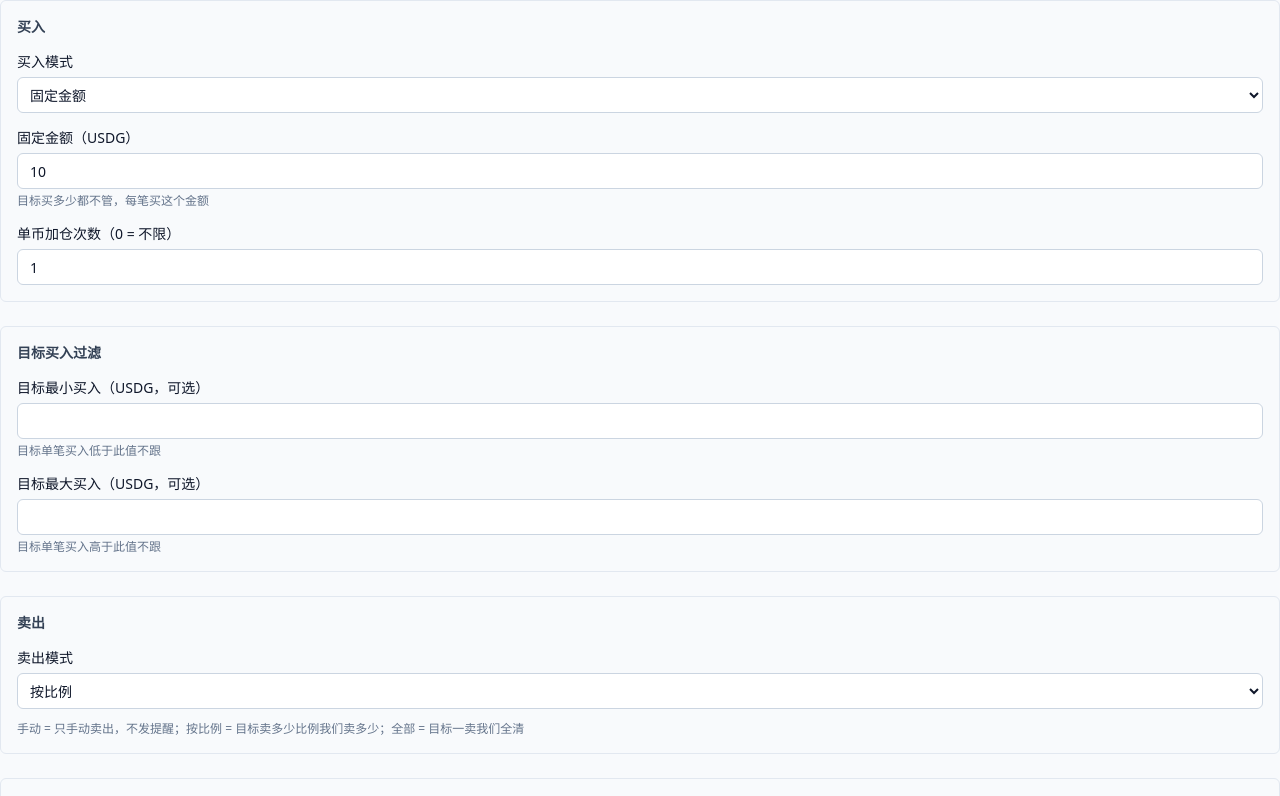
Scenario: numeric inputs carry min attributes and refuse a minus sign while typing
Replace the text in the number field labelled "单币加仓次数（0 = 不限）" with "-3" at [640, 267], box x1=17 y1=249 x2=1263 y2=285
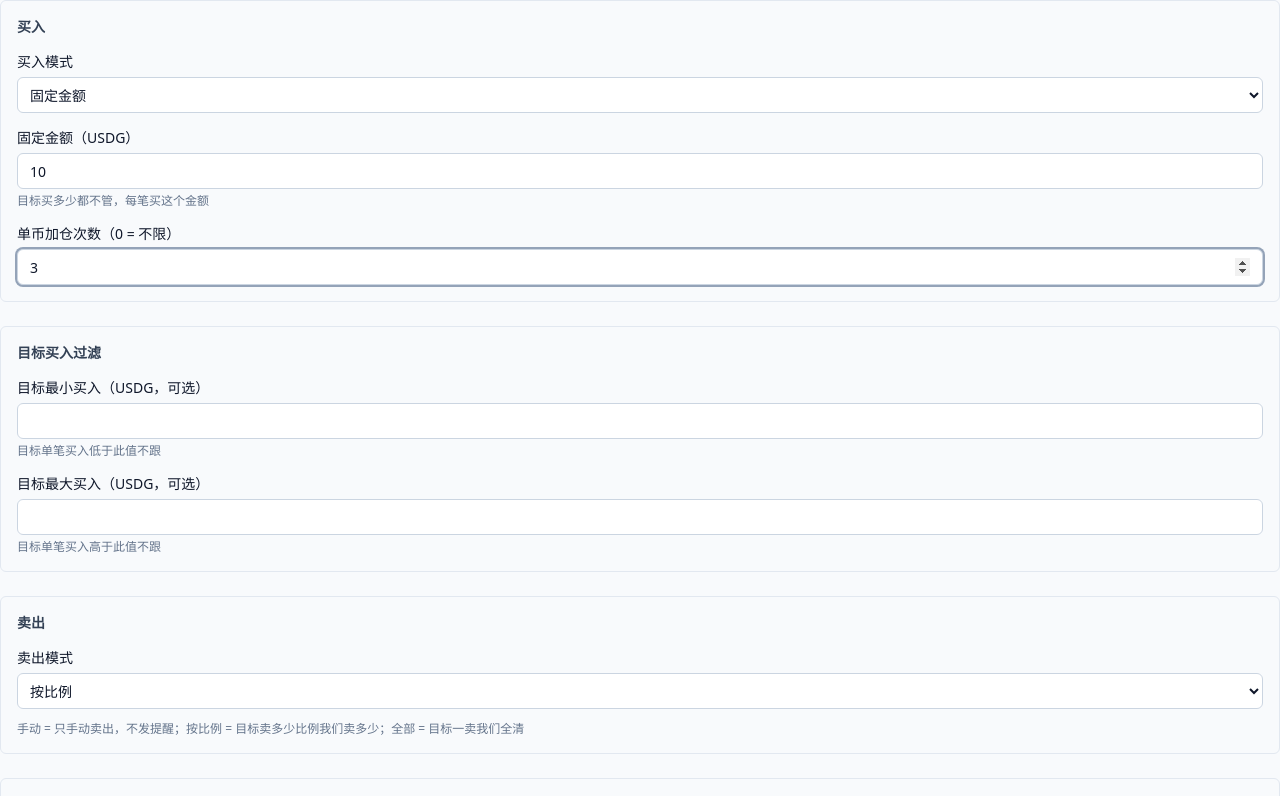
Now the number field labelled "单币加仓次数（0 = 不限）" holds "3", box x1=17 y1=249 x2=1263 y2=285
Replace the text in the field labelled "固定金额（USDG）" with "-5" at [640, 171], box x1=17 y1=153 x2=1263 y2=189
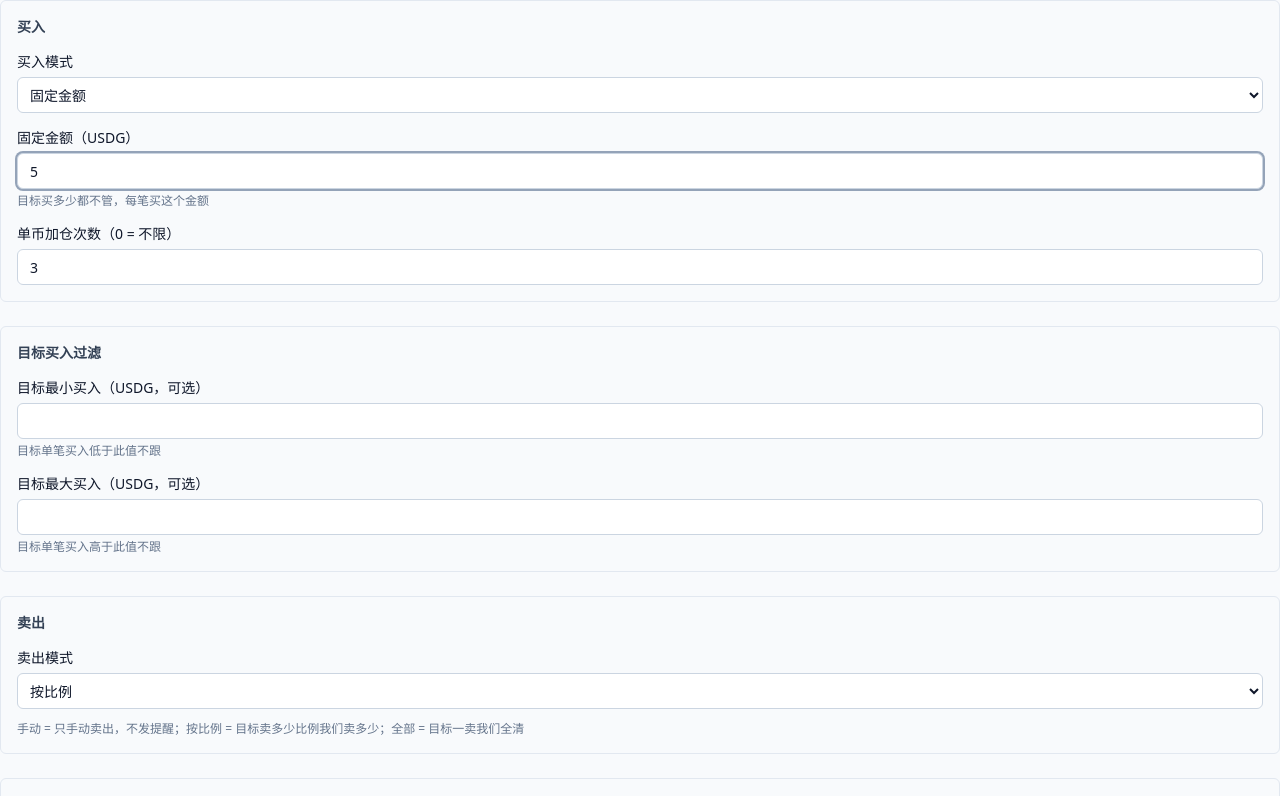
Now the field labelled "固定金额（USDG）" holds "5", box x1=17 y1=153 x2=1263 y2=189
